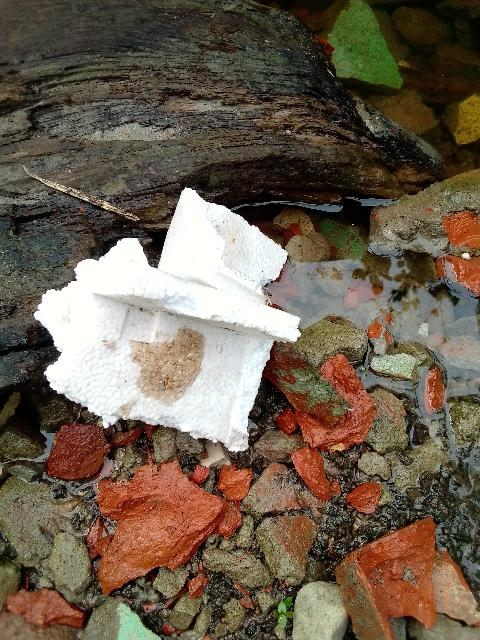cocksheet: (45, 206, 300, 443)
